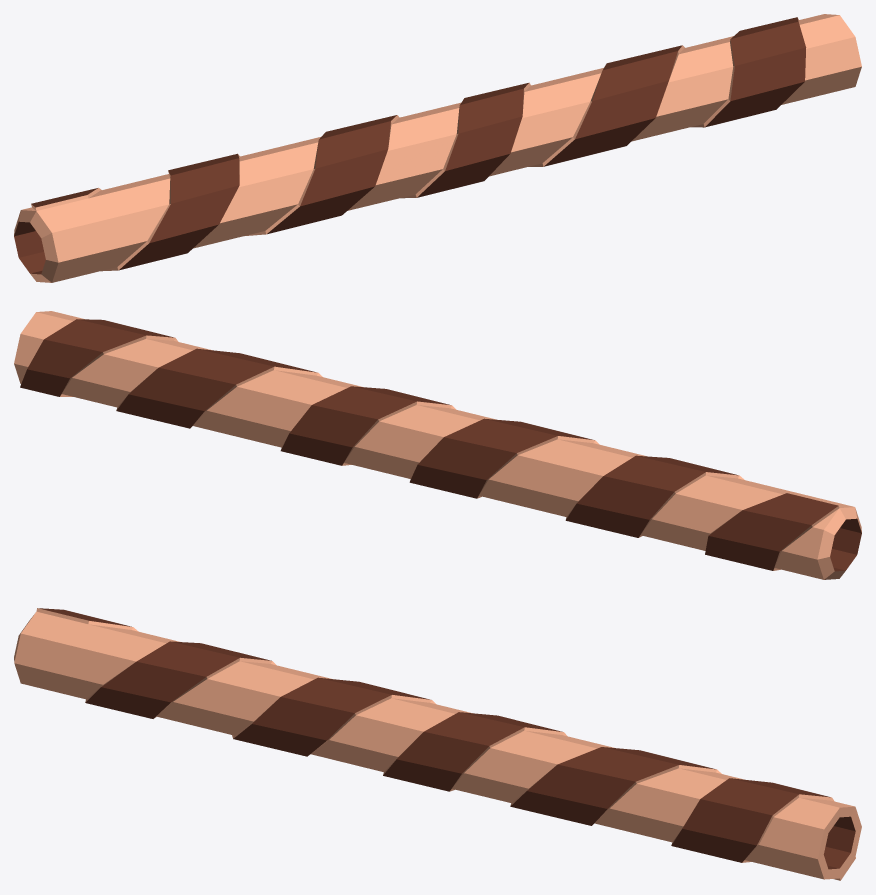
The model's file is stick-o choco.fbx.
The picture shows the model from 3 angles, top to bottom: view 1: azimuth 30°, elevation 25°; view 2: azimuth 150°, elevation 25°; view 3: azimuth 330°, elevation 25°; orthographic projection.
Parts seen in each view (by area): view 1: Cylinder.001; view 2: Cylinder.001; view 3: Cylinder.001.
Part boxes in pixels (box(x1,y1,x2,y2)): Cylinder.001: box(14, 14, 861, 282); Cylinder.001: box(14, 311, 861, 579); Cylinder.001: box(14, 608, 861, 880).
Bounding box in the file's own units: 3.65 × 0.3326 × 0.3776.
